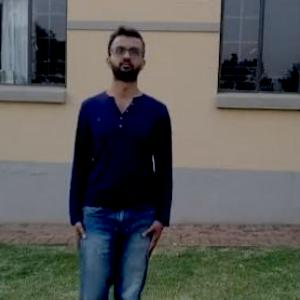follow: (68, 22, 176, 299)
